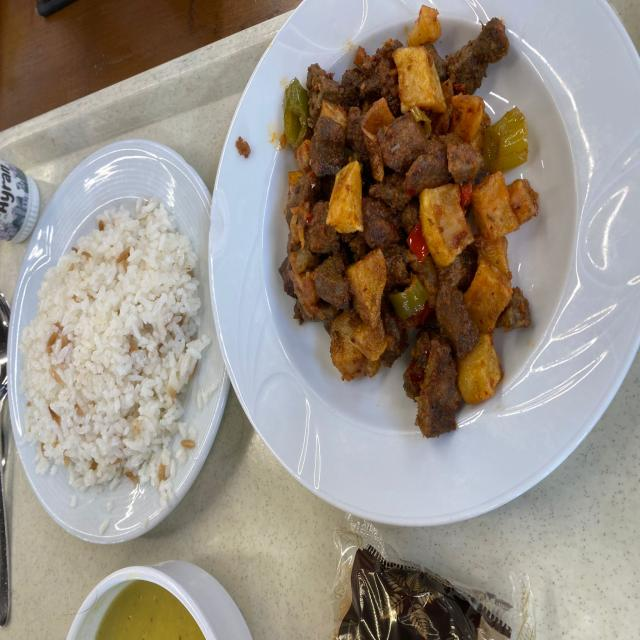ana_yemek: (276, 4, 540, 439)
